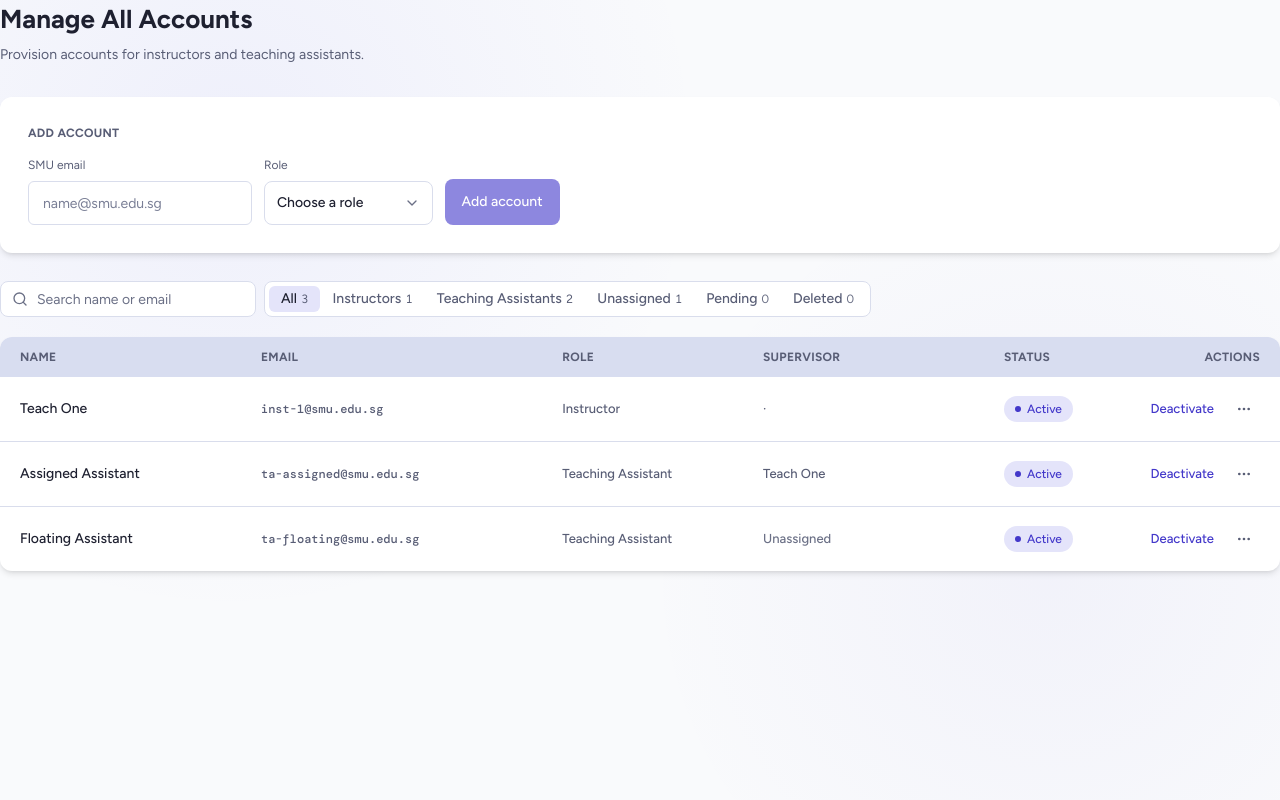
it: UsersPage - row menu › opens the supervisors of an assistant from the row menu
Step 1. Click the button named "More actions for Assigned Assistant" → [1244, 474], box [1228, 458, 1260, 490]
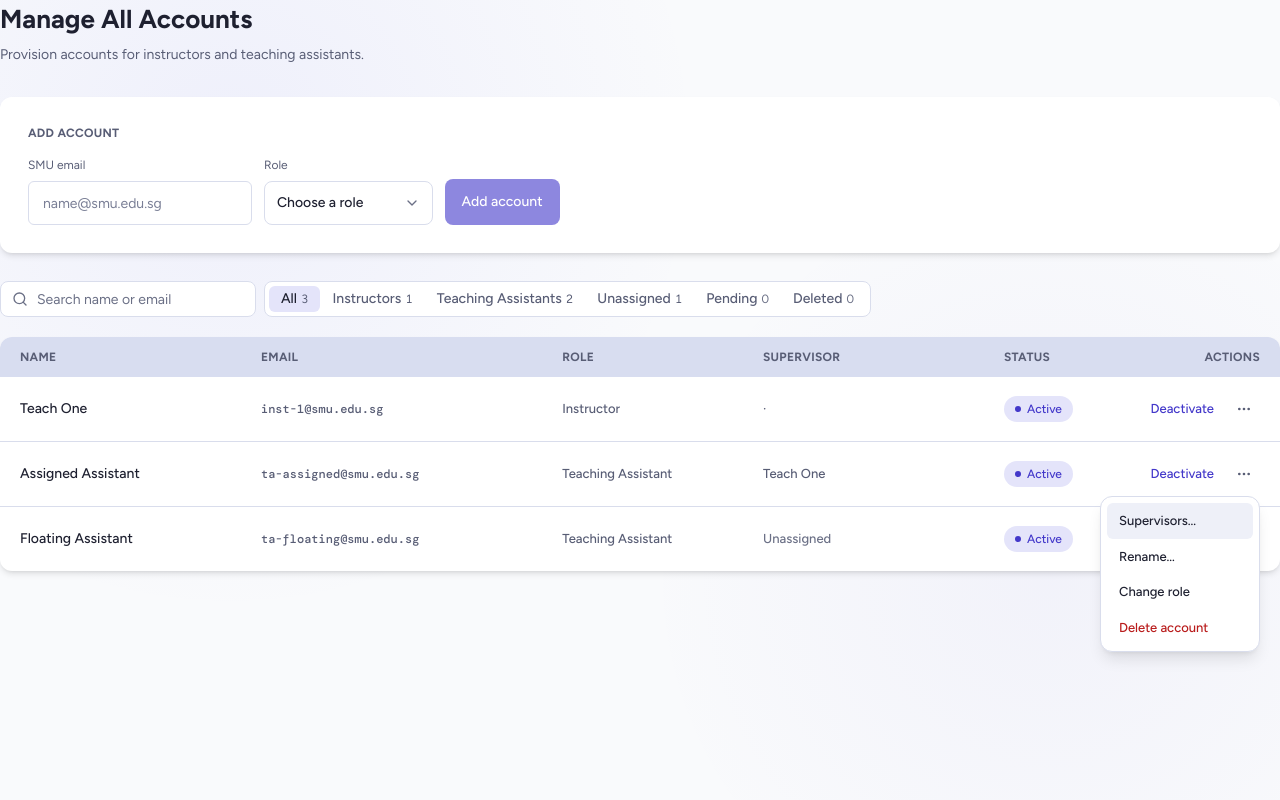
Step 2. Click the menu item "Supervisors…" → [1180, 521], box [1107, 503, 1253, 538]
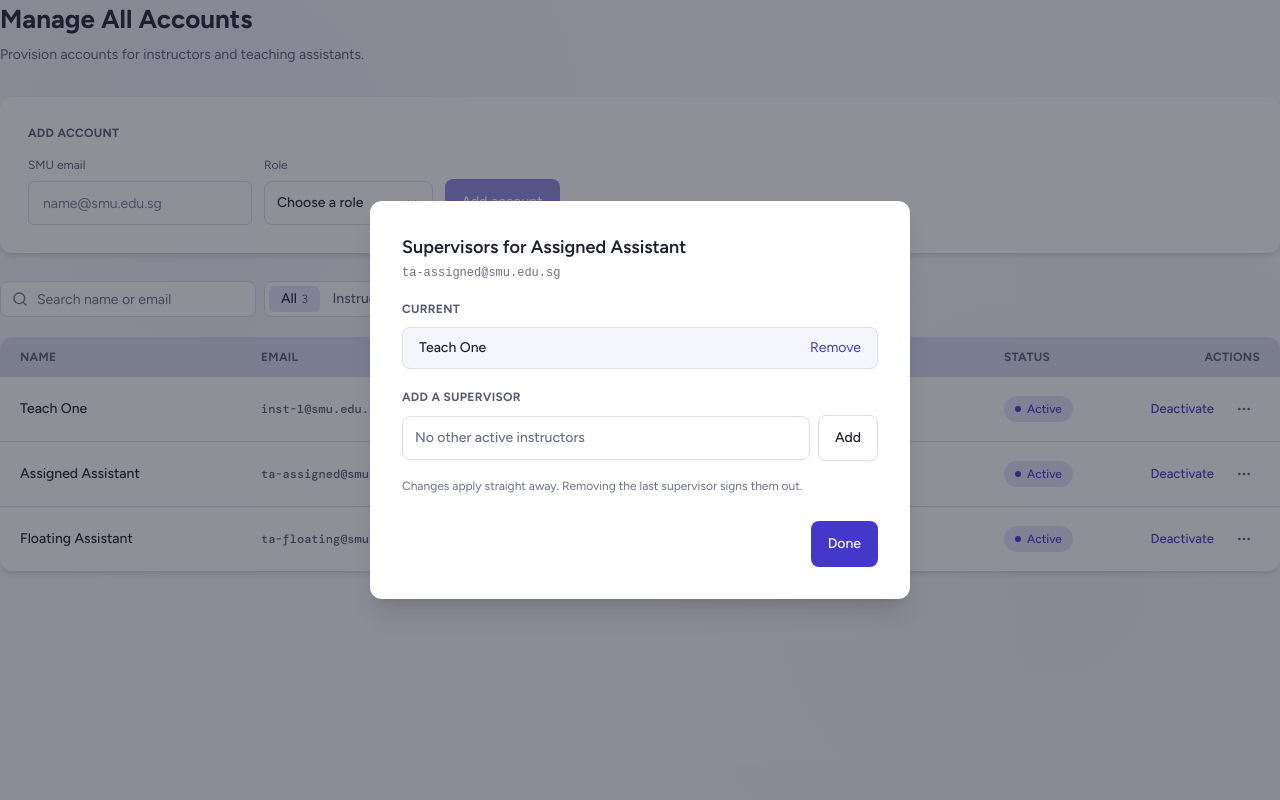
Check: the dialog "Supervisors for Assigned Assistant" is shown, box [370, 201, 910, 599]
